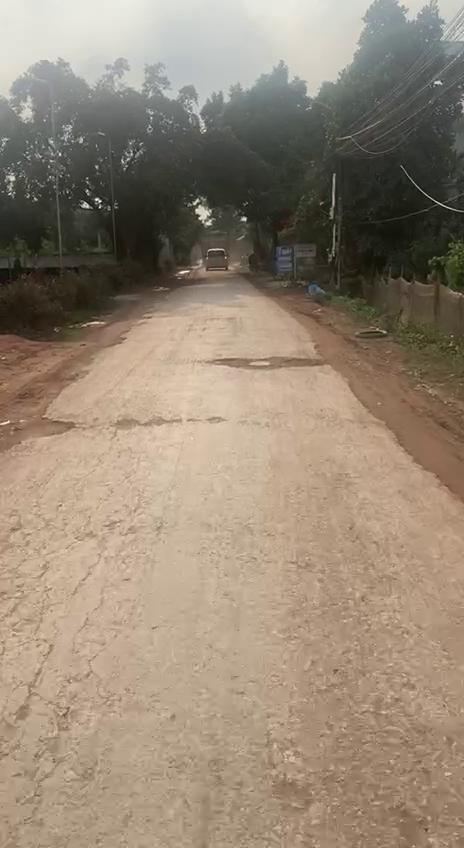pothole: (6, 414, 82, 454), (210, 353, 330, 374)
